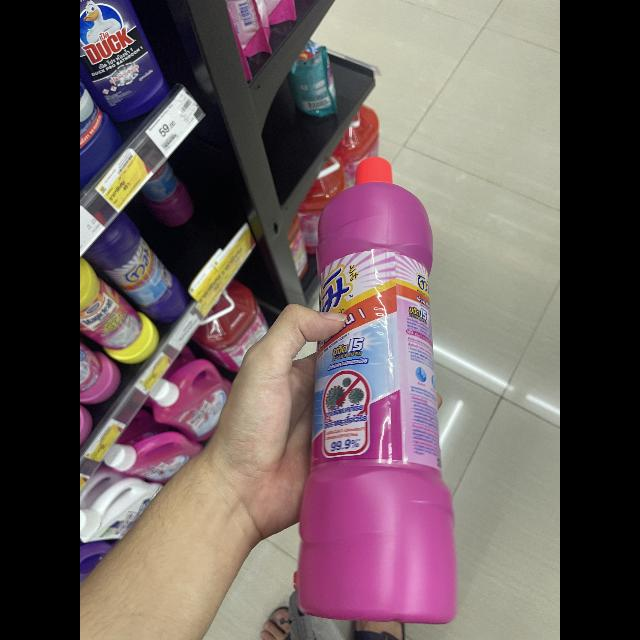chemical_plastic_bottle: (304, 152, 466, 634)
